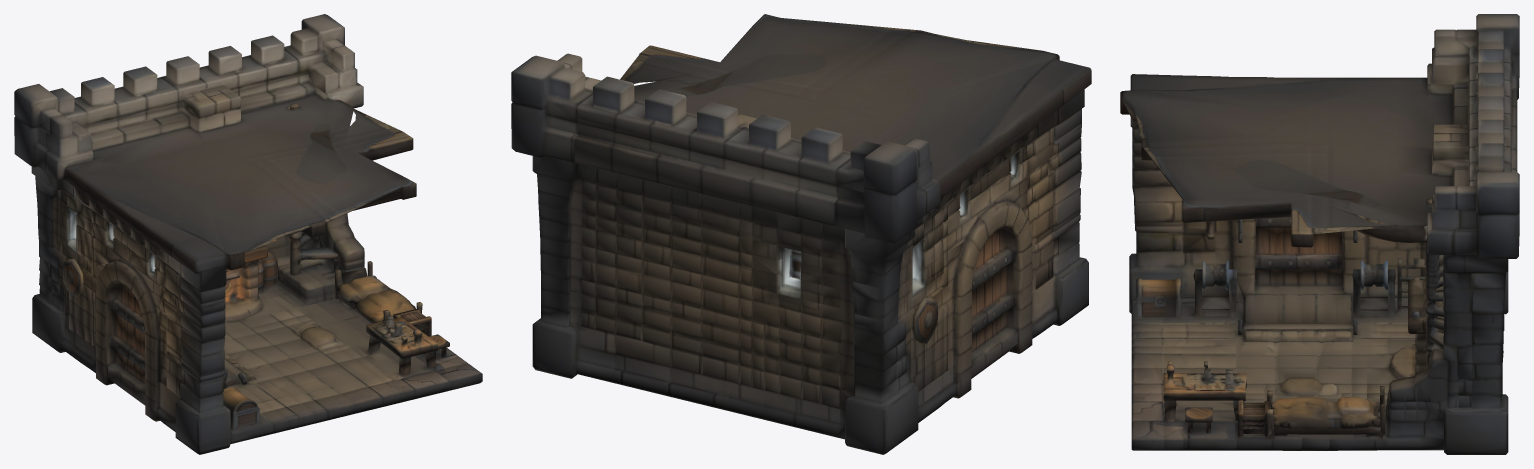
The model's file is border keep interior.glb.
The picture shows the model from 3 angles, left to right: view 1: azimuth 30°, elevation 25°; view 2: azimuth 150°, elevation 25°; view 3: azimuth 270°, elevation 25°; orthographic projection. The views are drawn at different scales.
Parts seen in each view (by area): view 1: tripo_node_b212249f-58cb-4cf6-9e74-3eb41a54c1bb; view 2: tripo_node_b212249f-58cb-4cf6-9e74-3eb41a54c1bb; view 3: tripo_node_b212249f-58cb-4cf6-9e74-3eb41a54c1bb.
Boxes of the visible parts, box(x1,y1,x2,y2) form: tripo_node_b212249f-58cb-4cf6-9e74-3eb41a54c1bb: box(14, 14, 482, 454); tripo_node_b212249f-58cb-4cf6-9e74-3eb41a54c1bb: box(511, 14, 1091, 454); tripo_node_b212249f-58cb-4cf6-9e74-3eb41a54c1bb: box(1120, 14, 1519, 454).
Size of the model in its own units: 0.9768 by 0.7283 by 0.95.
1 material, 1 textured.
